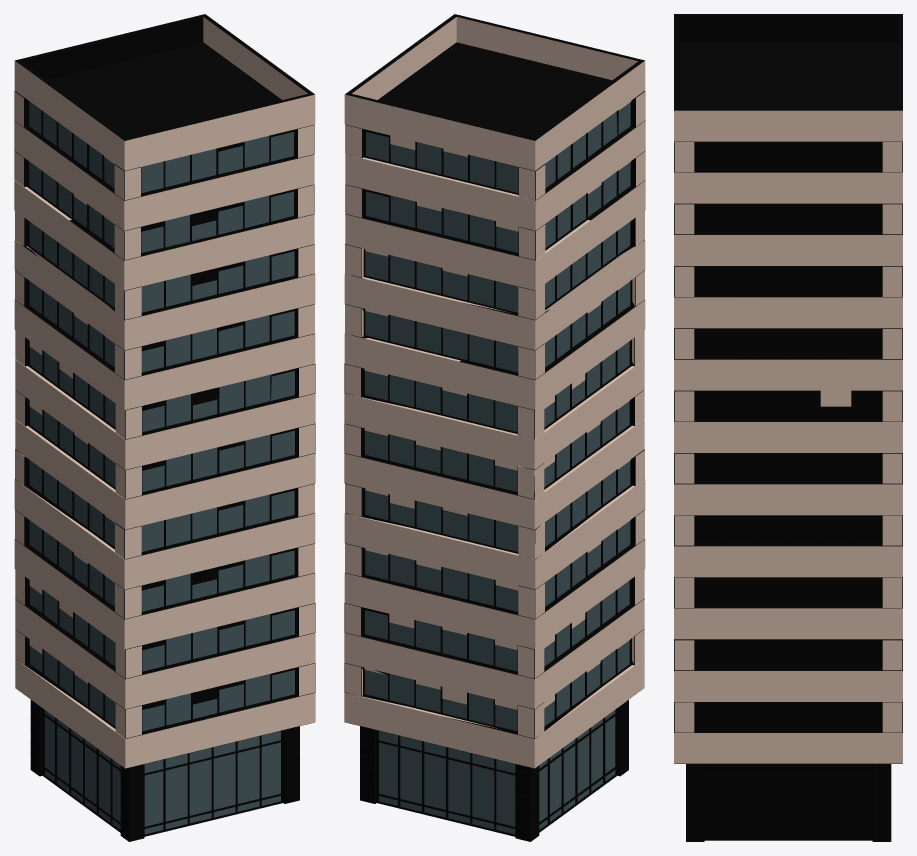
File: town- build2.fbx
3 views of the same model, side by side, from view 1: azimuth 30°, elevation 25°; view 2: azimuth 150°, elevation 25°; view 3: azimuth 270°, elevation 25° (orthographic). The views are drawn at different scales.
Visible parts, largest first — view 1: pasted__Object155; view 2: pasted__Object155; view 3: pasted__Object155.
Part boxes in pixels (<box>): pasted__Object155: <box>14,14,315,841</box>; pasted__Object155: <box>344,14,645,841</box>; pasted__Object155: <box>674,14,902,841</box>.
Size of the model in its own units: 9.11 by 32.17 by 9.06.
